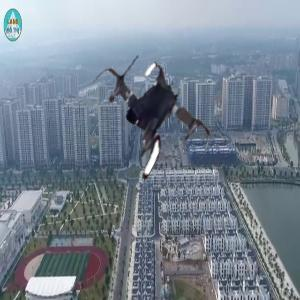drone: (74, 52, 218, 196)
